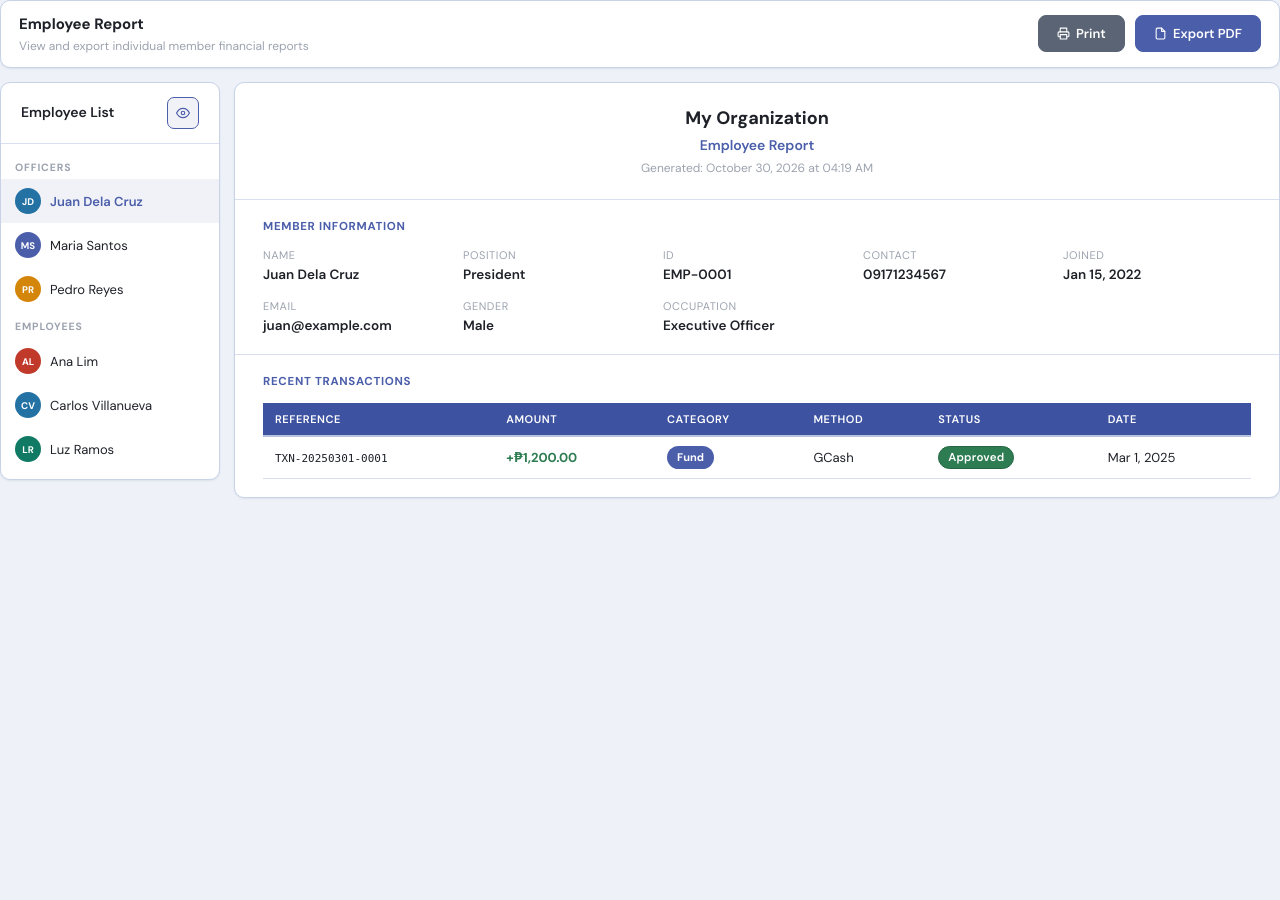
EmployeeReport › All Employees modal lists officers and members with totals
What coordinates should you click on to do the following:
click the button named "View All Employees"
I would click on:
 (183, 112)
Its box is x1=167 y1=96 x2=199 y2=128.
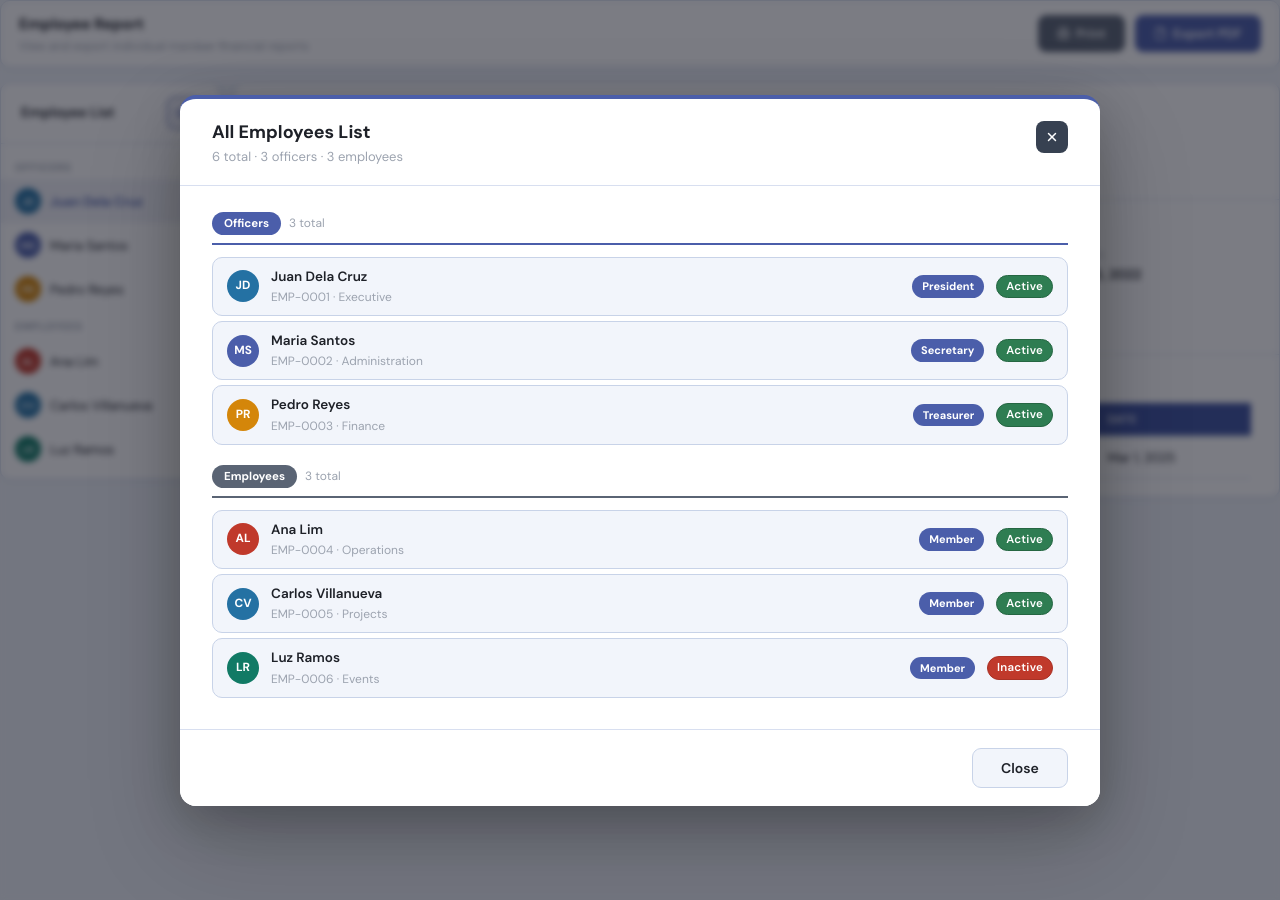
Check: the text "All Employees List" is shown, box x1=212 y1=120 x2=370 y2=143
What coordinates should you click on to do the following:
click the button "Close"
I would click on:
 (1020, 768)
Its box is x1=972 y1=748 x2=1068 y2=788.
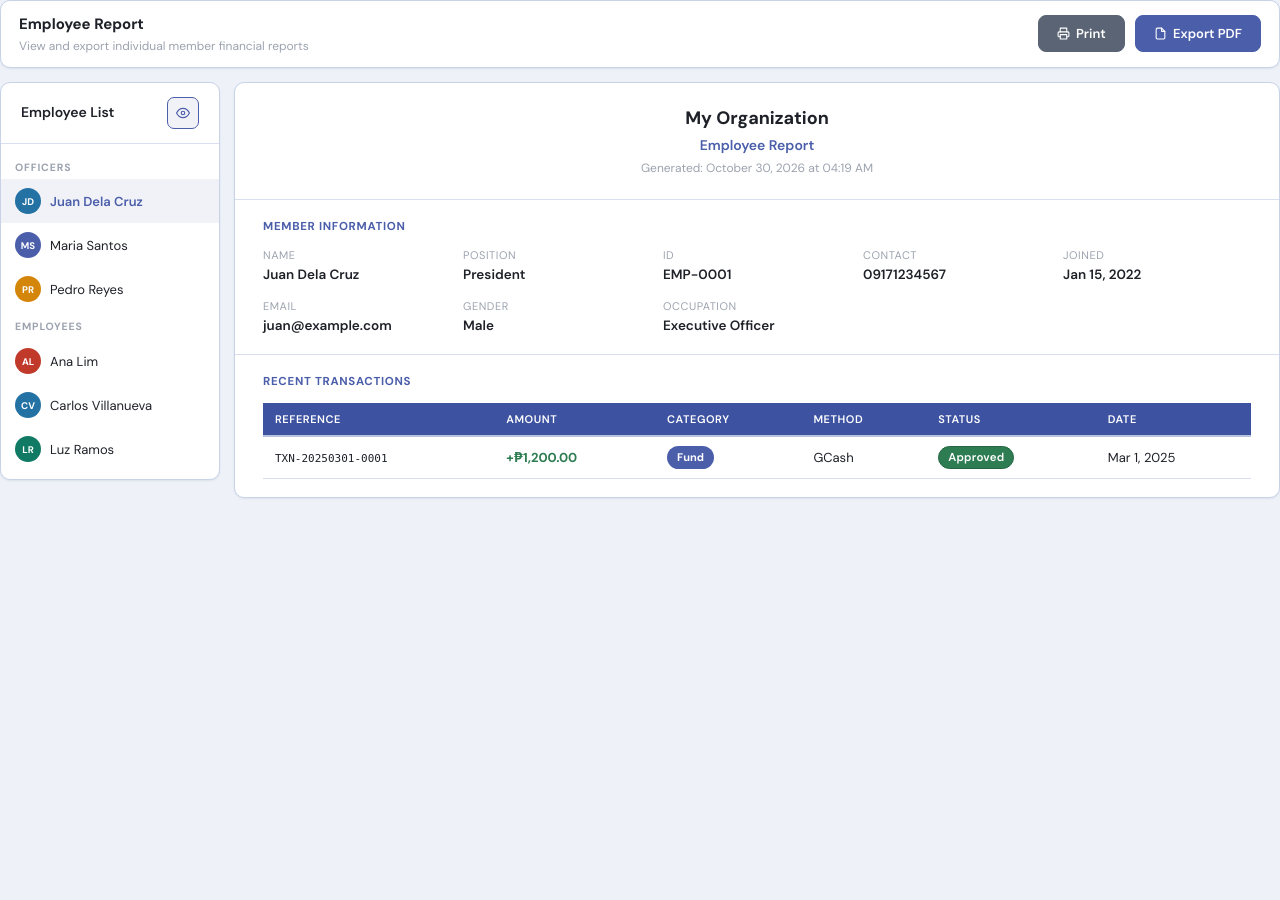
Check: the text "All Employees List" is gone
